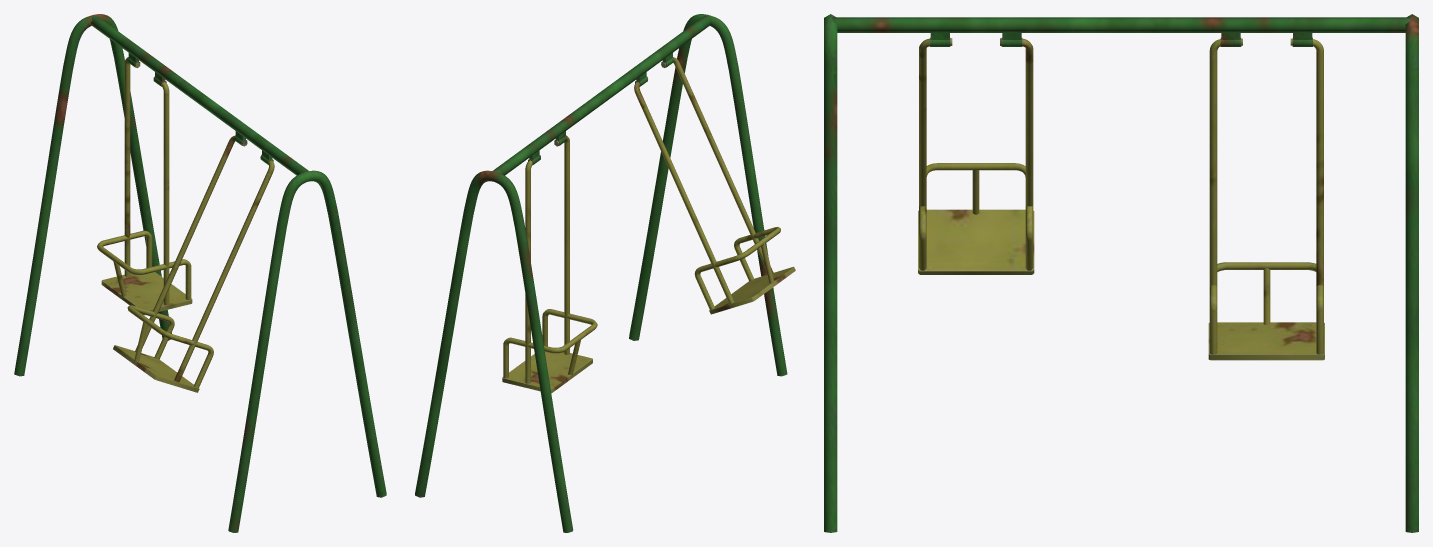
The model's file is swings.glb.
3 views of the same model, side by side, from view 1: azimuth 30°, elevation 25°; view 2: azimuth 150°, elevation 25°; view 3: azimuth 270°, elevation 25° (orthographic). The views are drawn at different scales.
Parts seen in each view (by area): view 1: swings; view 2: swings; view 3: swings.
Part boxes in pixels (<box>): swings: <box>14,14,386,532</box>; swings: <box>415,14,795,532</box>; swings: <box>824,14,1418,532</box>.
Size of the model in its own units: 1.61 by 2.65 by 3.07.
1 material, 1 textured.
